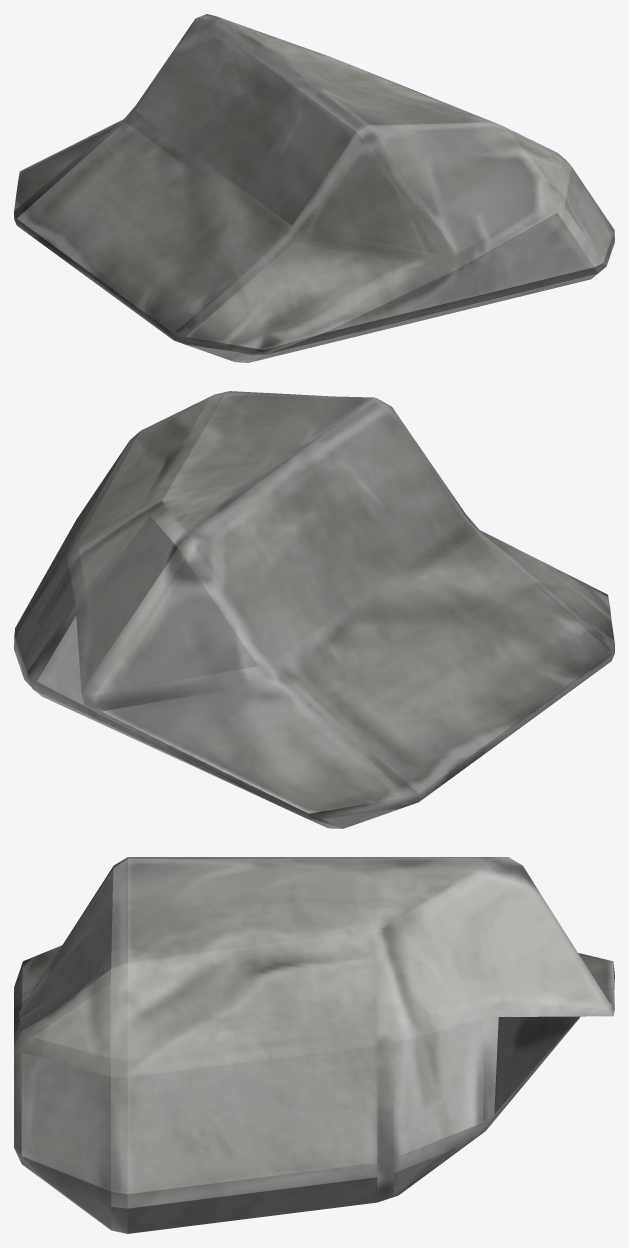
File: 13_R_Pequeña.fbx
3 views of the same model, one above another, from view 1: azimuth 30°, elevation 25°; view 2: azimuth 150°, elevation 25°; view 3: azimuth 270°, elevation 25° (orthographic). The views are drawn at different scales.
Visible parts, largest first — view 1: 13_R_Pequeña_Low; view 2: 13_R_Pequeña_Low; view 3: 13_R_Pequeña_Low.
Part boxes in pixels (x1=…): 13_R_Pequeña_Low: x1=14, y1=14, x2=614, y2=362; 13_R_Pequeña_Low: x1=14, y1=391, x2=614, y2=828; 13_R_Pequeña_Low: x1=14, y1=857, x2=614, y2=1233.
Bounding box in the file's own units: 334 × 147 × 329.
